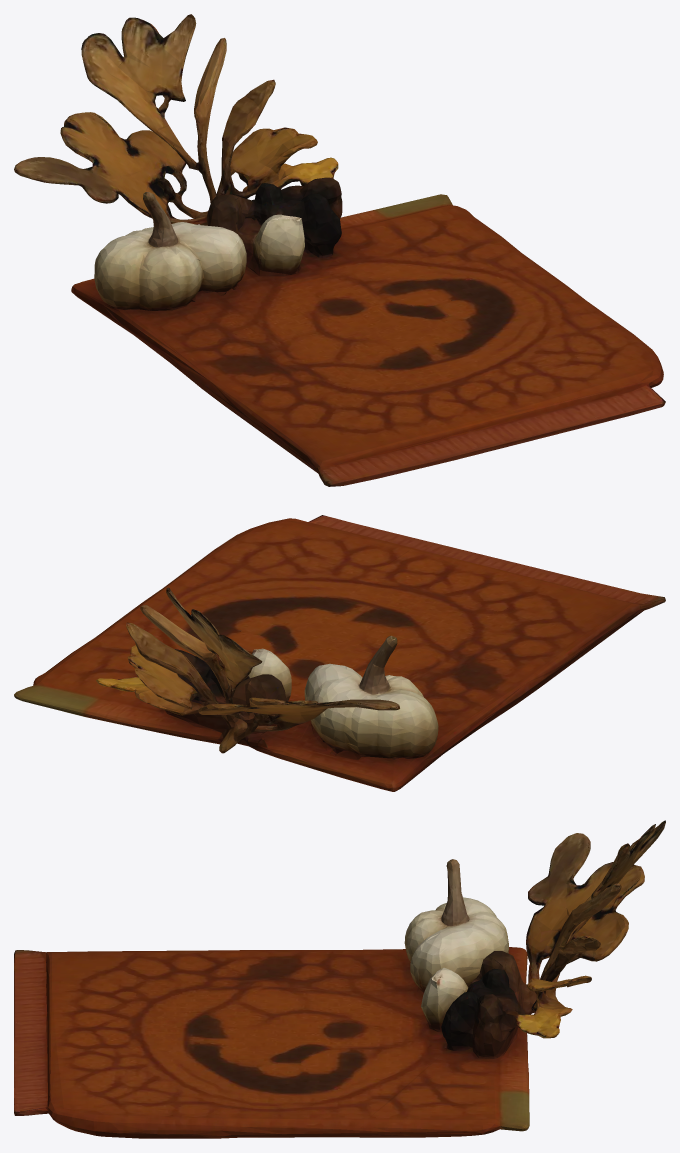
The model's file is doormat_halloween.glb.
3 views of the same model, one above another, from view 1: azimuth 30°, elevation 25°; view 2: azimuth 150°, elevation 25°; view 3: azimuth 270°, elevation 25° (orthographic). The views are drawn at different scales.
Visible parts, largest first — view 1: geometry_0; view 2: geometry_0; view 3: geometry_0.
Boxes of the visible parts, <box> form: geometry_0: <box>14,14,665,486</box>; geometry_0: <box>14,515,665,791</box>; geometry_0: <box>14,820,665,1138</box>.
Bounding box in the file's own units: 0.7033 × 0.349 × 1.
Materials: 1 (1 with a texture image).
